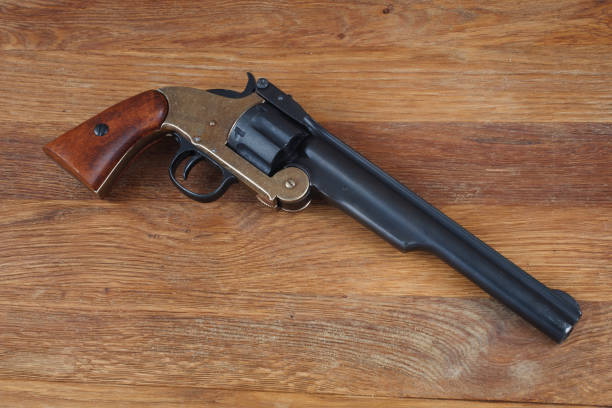gun: (44, 68, 584, 346)
